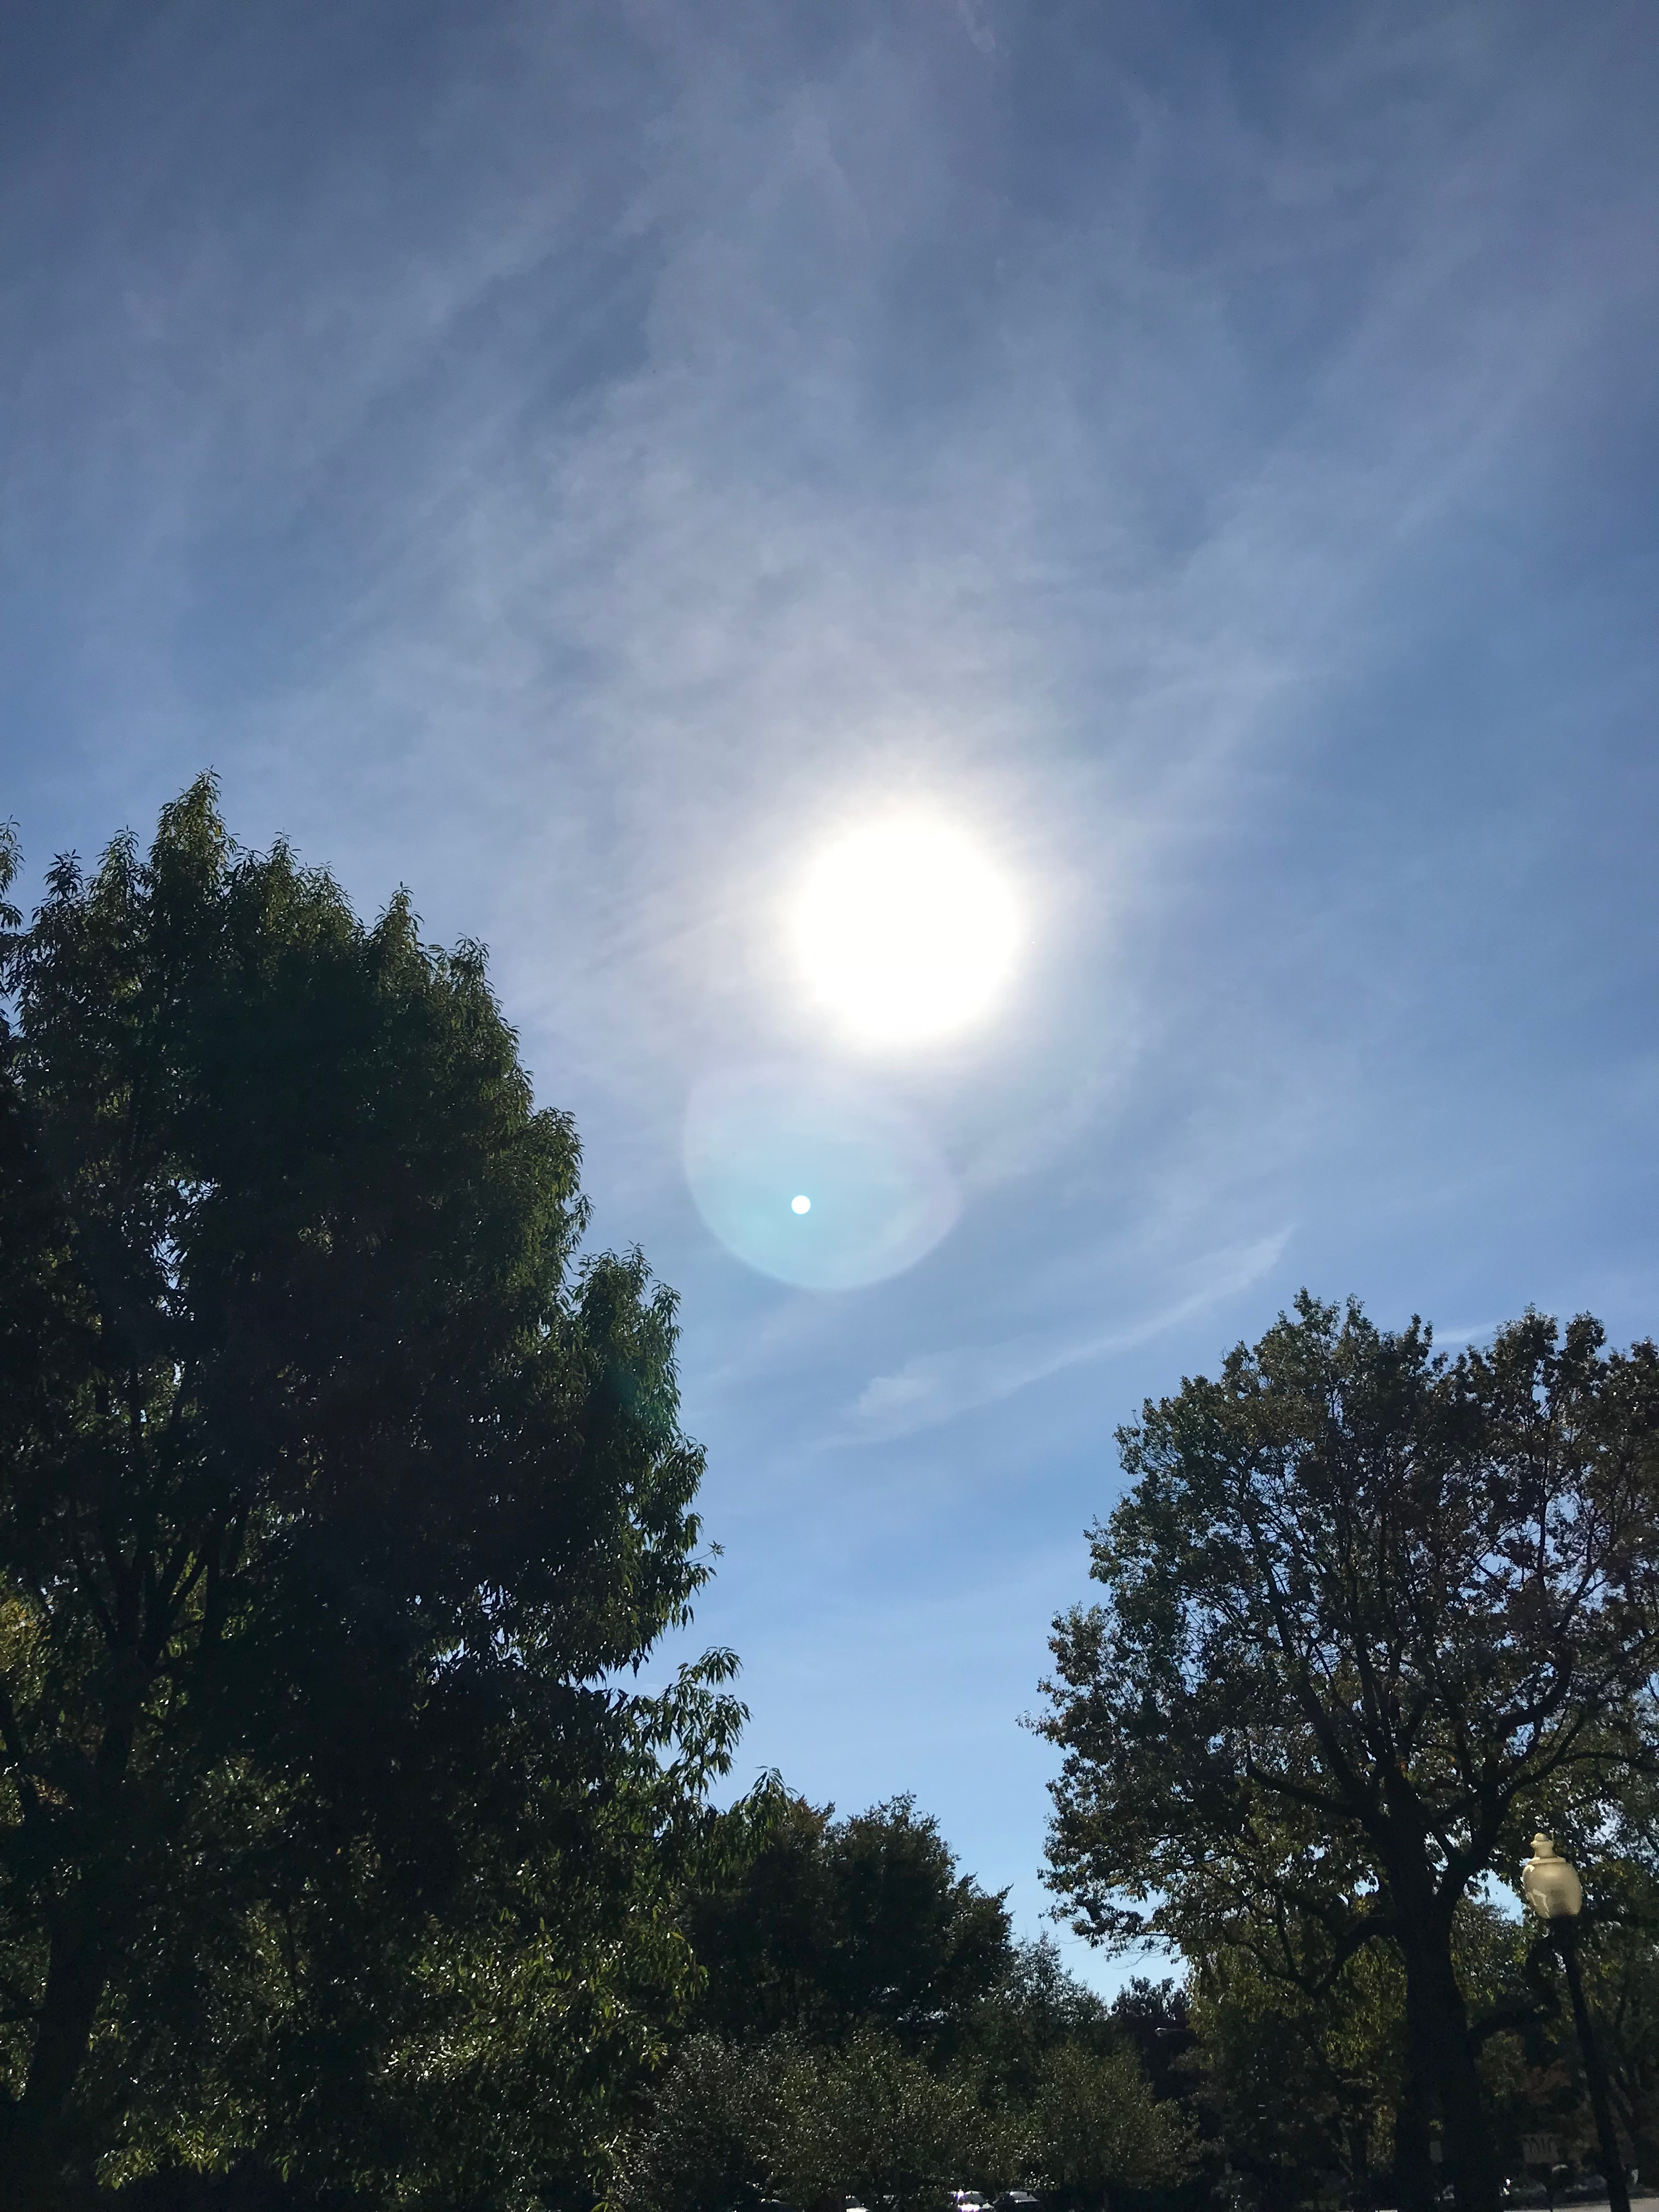flare: (789, 1193, 814, 1216)
